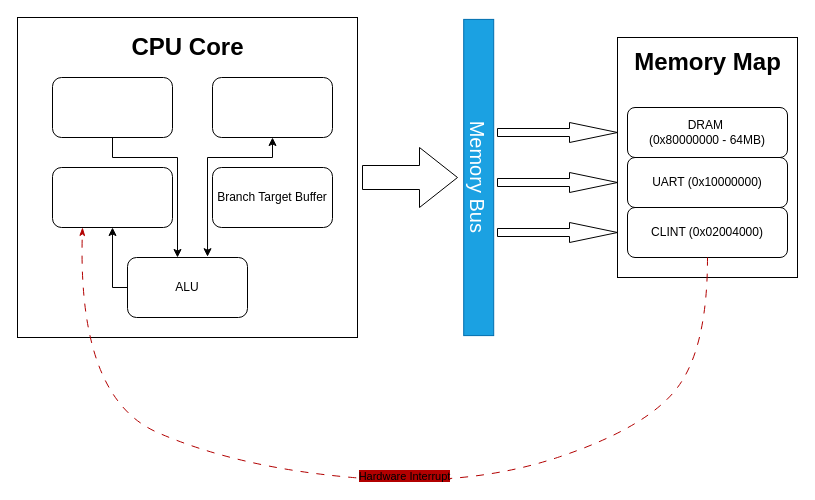
This 815x500 diagram has some shape labels left out. The centre of each missing label's shape, as x and y in pixels:
CSRs (Status/Trap Logic): the point at 112,197
Decoder & Control Logic: the point at 112,107
Registers x0 - x31: the point at 272,107
